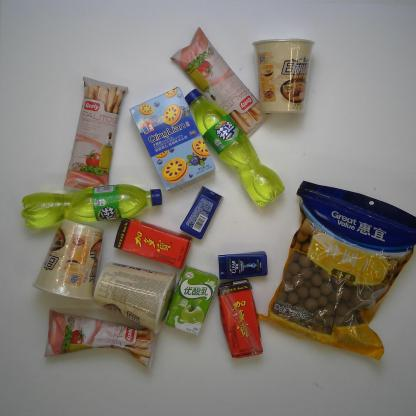Dessert: (169, 25, 274, 139), (127, 86, 222, 190), (60, 73, 138, 198), (37, 309, 163, 376)
Dried Food: (269, 174, 414, 362)
Drink: (178, 87, 287, 213), (12, 184, 171, 232), (111, 216, 191, 272), (216, 280, 270, 361)
Instant Noodles: (92, 255, 178, 334), (29, 218, 103, 299), (251, 34, 320, 113)
Milk: (165, 262, 220, 340)
Personal Hygiene: (173, 186, 228, 236), (209, 246, 274, 286)
